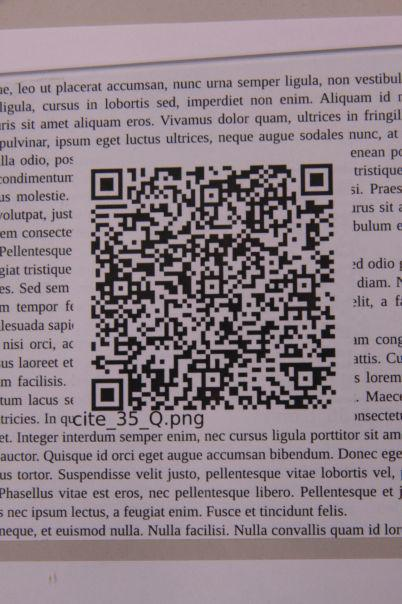Finder pattern: (295, 158, 339, 202), (86, 375, 130, 418), (87, 165, 130, 204)
